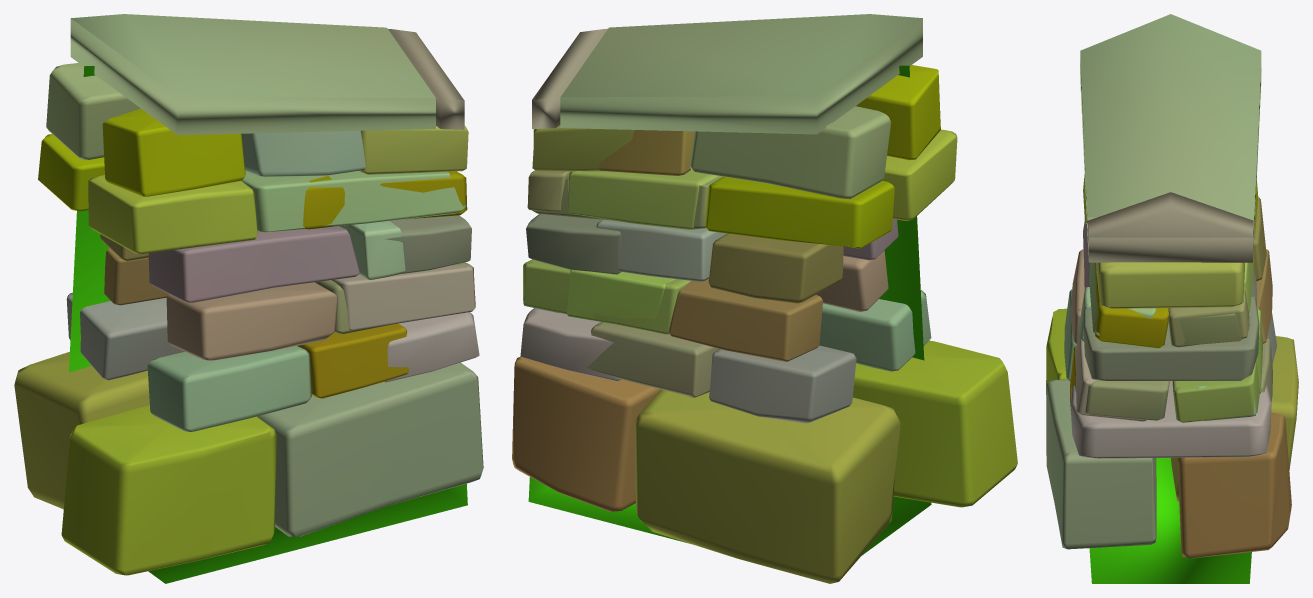
The model's file is SM_Prop_wall_end_23.glb.
3 views of the same model, side by side, from view 1: azimuth 30°, elevation 25°; view 2: azimuth 150°, elevation 25°; view 3: azimuth 270°, elevation 25° (orthographic). The views are drawn at different scales.
Parts seen in each view (by area): view 1: SM_Prop_wall_end_23; view 2: SM_Prop_wall_end_23; view 3: SM_Prop_wall_end_23.
Part boxes in pixels (<box>): SM_Prop_wall_end_23: <box>14,14,483,583</box>; SM_Prop_wall_end_23: <box>512,14,1017,583</box>; SM_Prop_wall_end_23: <box>1046,14,1298,583</box>.
Size of the model in its own units: 1.22 by 1.58 by 0.809.
